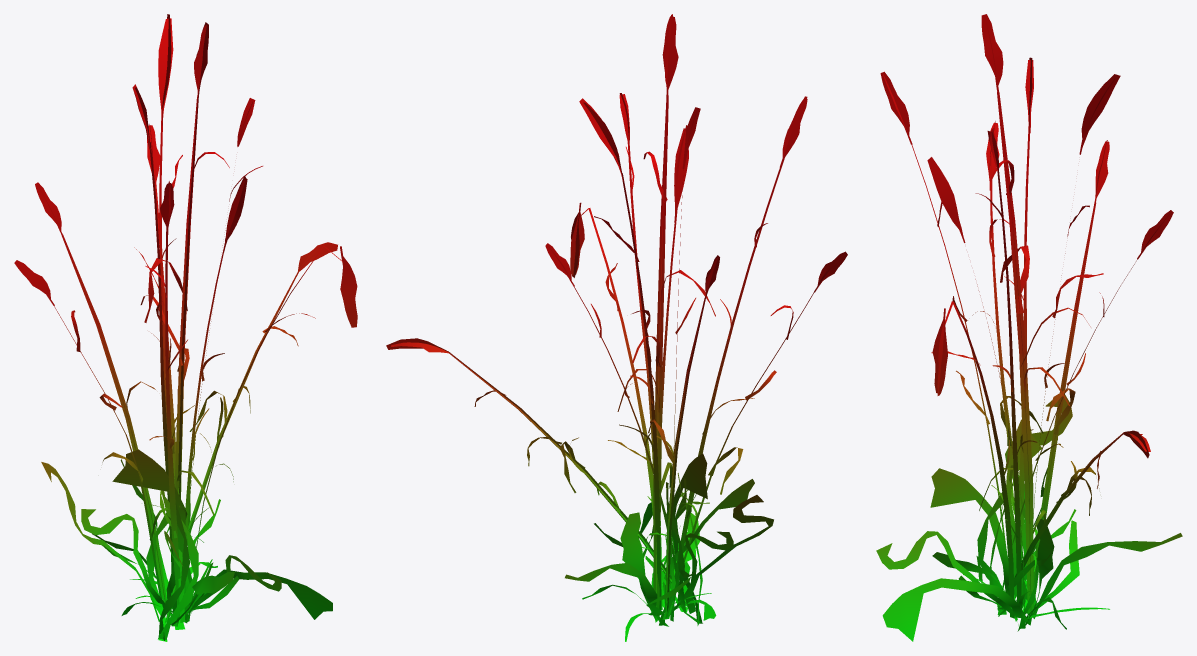
Rendered from Wheat Grass_LOD1_Var3_tdcrdbur.fbx.
3 renders of one model, left to right at view 1: azimuth 30°, elevation 25°; view 2: azimuth 150°, elevation 25°; view 3: azimuth 270°, elevation 25°, orthographic. The views are drawn at different scales.
Visible parts, largest first — view 1: _c203_Var3_LOD1; view 2: _c203_Var3_LOD1; view 3: _c203_Var3_LOD1.
Part boxes in pixels (<box>): _c203_Var3_LOD1: <box>14,14,357,641</box>; _c203_Var3_LOD1: <box>386,14,847,641</box>; _c203_Var3_LOD1: <box>876,14,1182,641</box>.
Size of the model in its own units: 88.44 by 130 by 58.32.
